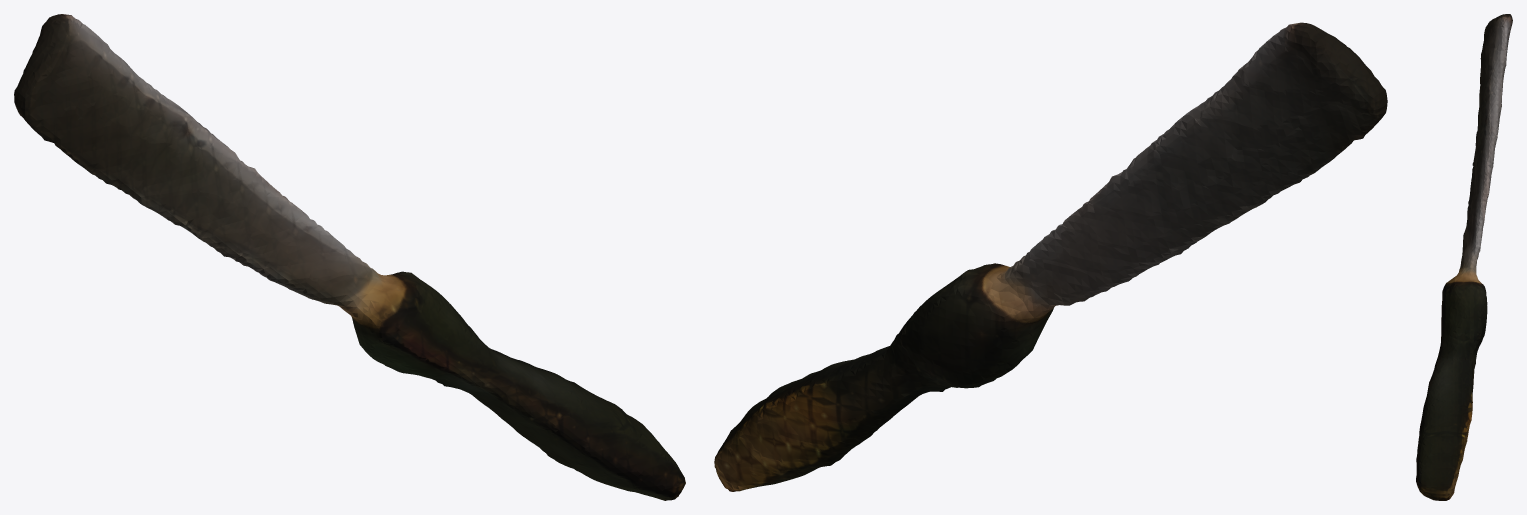
Rendered from 1_rgba.obj.
3 renders of one model, left to right at view 1: azimuth 30°, elevation 25°; view 2: azimuth 150°, elevation 25°; view 3: azimuth 270°, elevation 25°, orthographic. The views are drawn at different scales.
Bounding box in the file's own units: 1.56 × 1.38 × 0.3673.
1 material, 1 textured.
